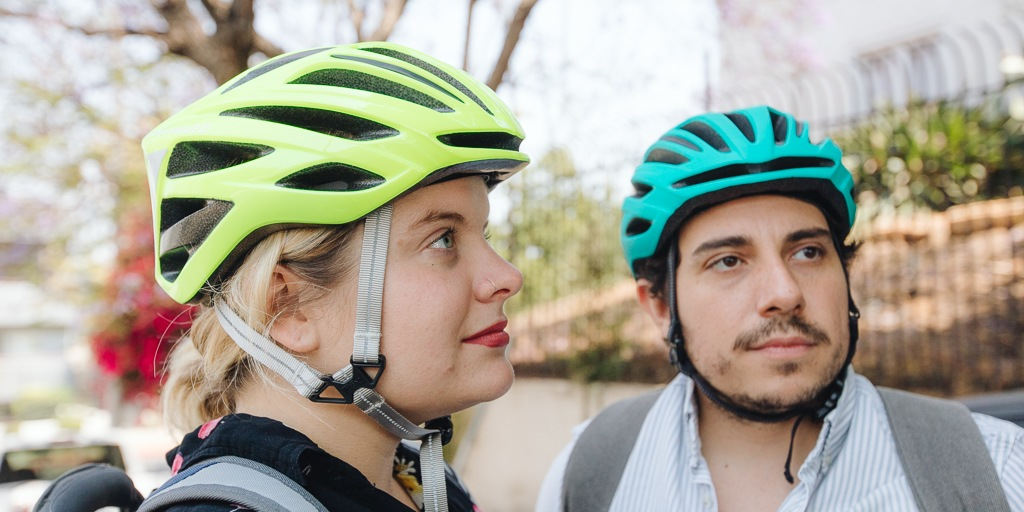helmet: (137, 40, 531, 201), (618, 101, 853, 252)
